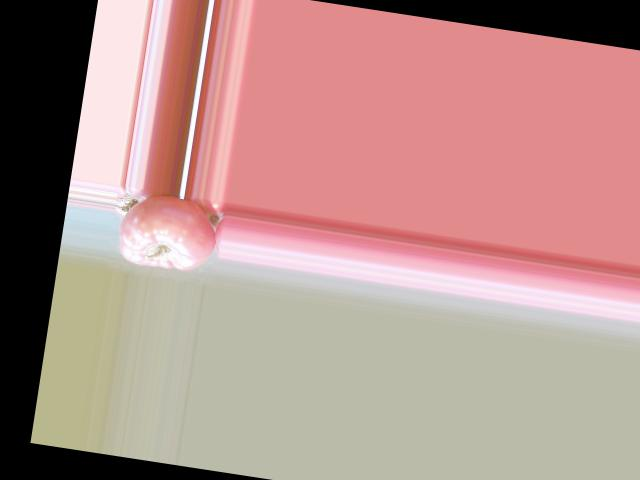tomato: (115, 189, 222, 275)
